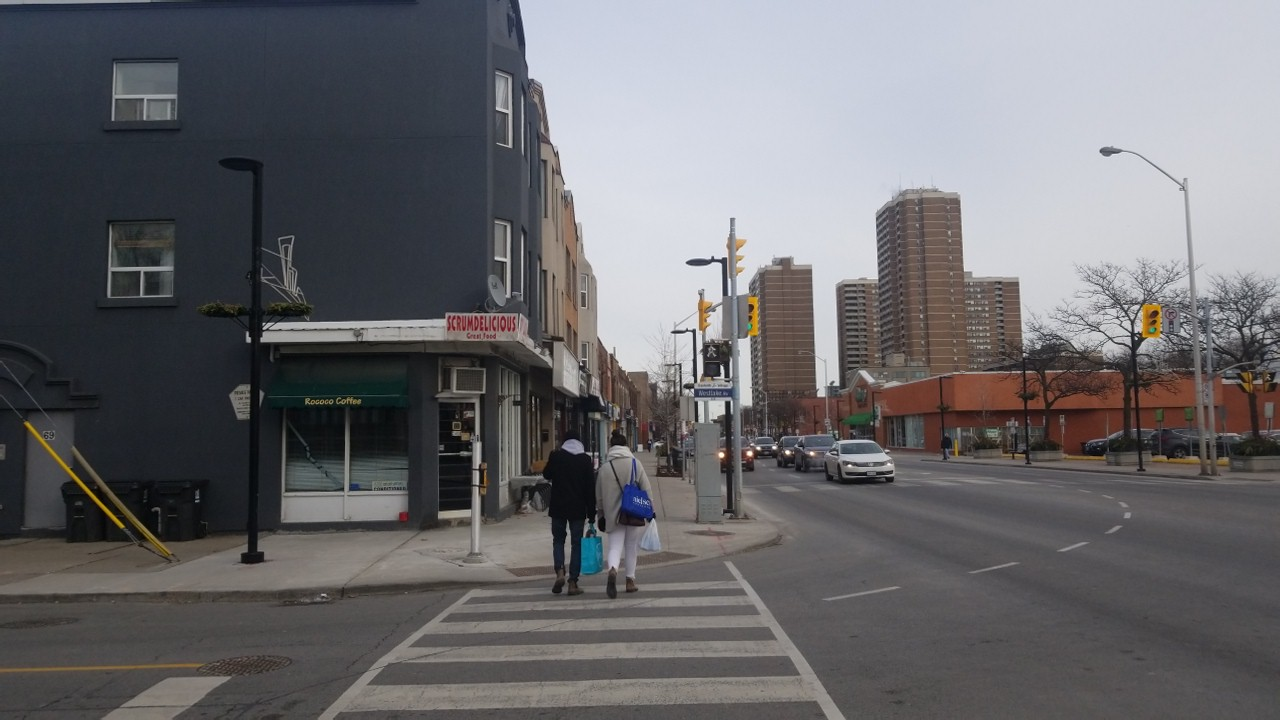light: (700, 340, 722, 379)
